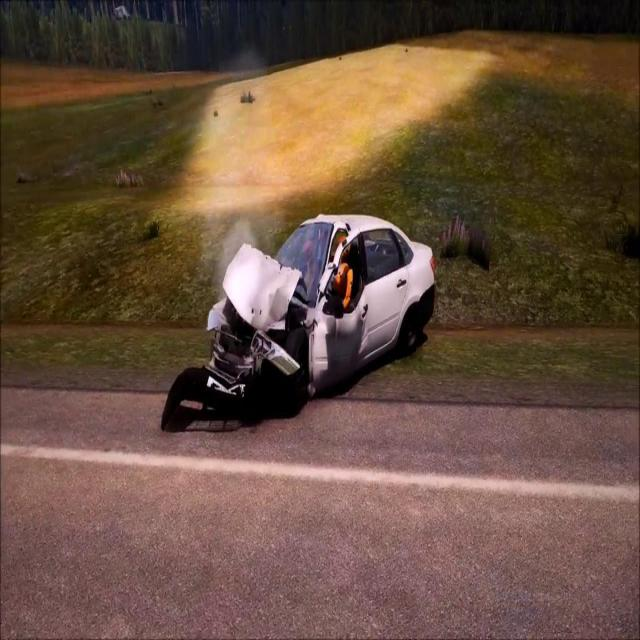severe: (160, 204, 438, 432)
